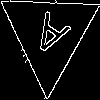A: (24, 9, 71, 66)
